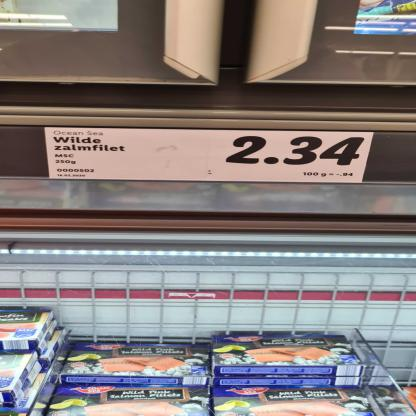prtg: (45, 128, 374, 183)
